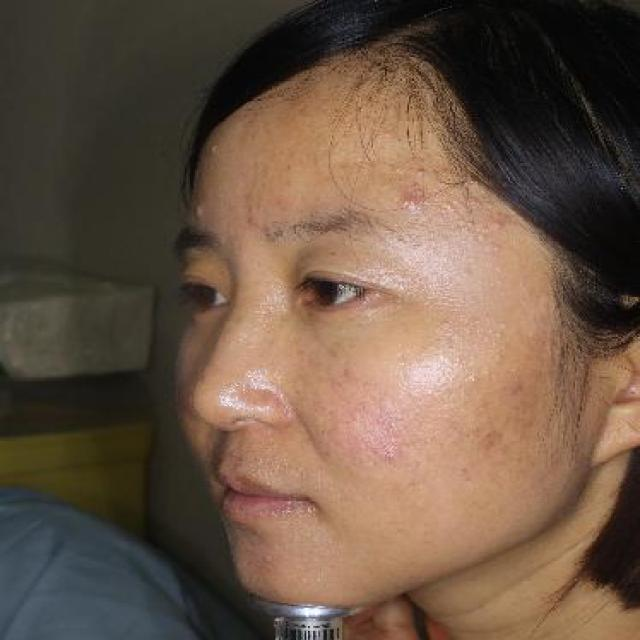Acne: (394, 191, 426, 214), (202, 137, 224, 160), (188, 198, 207, 222)
Whiteheads: (438, 192, 467, 215), (392, 161, 405, 177), (414, 165, 431, 177), (460, 217, 475, 229), (493, 220, 507, 232), (409, 182, 421, 192)
